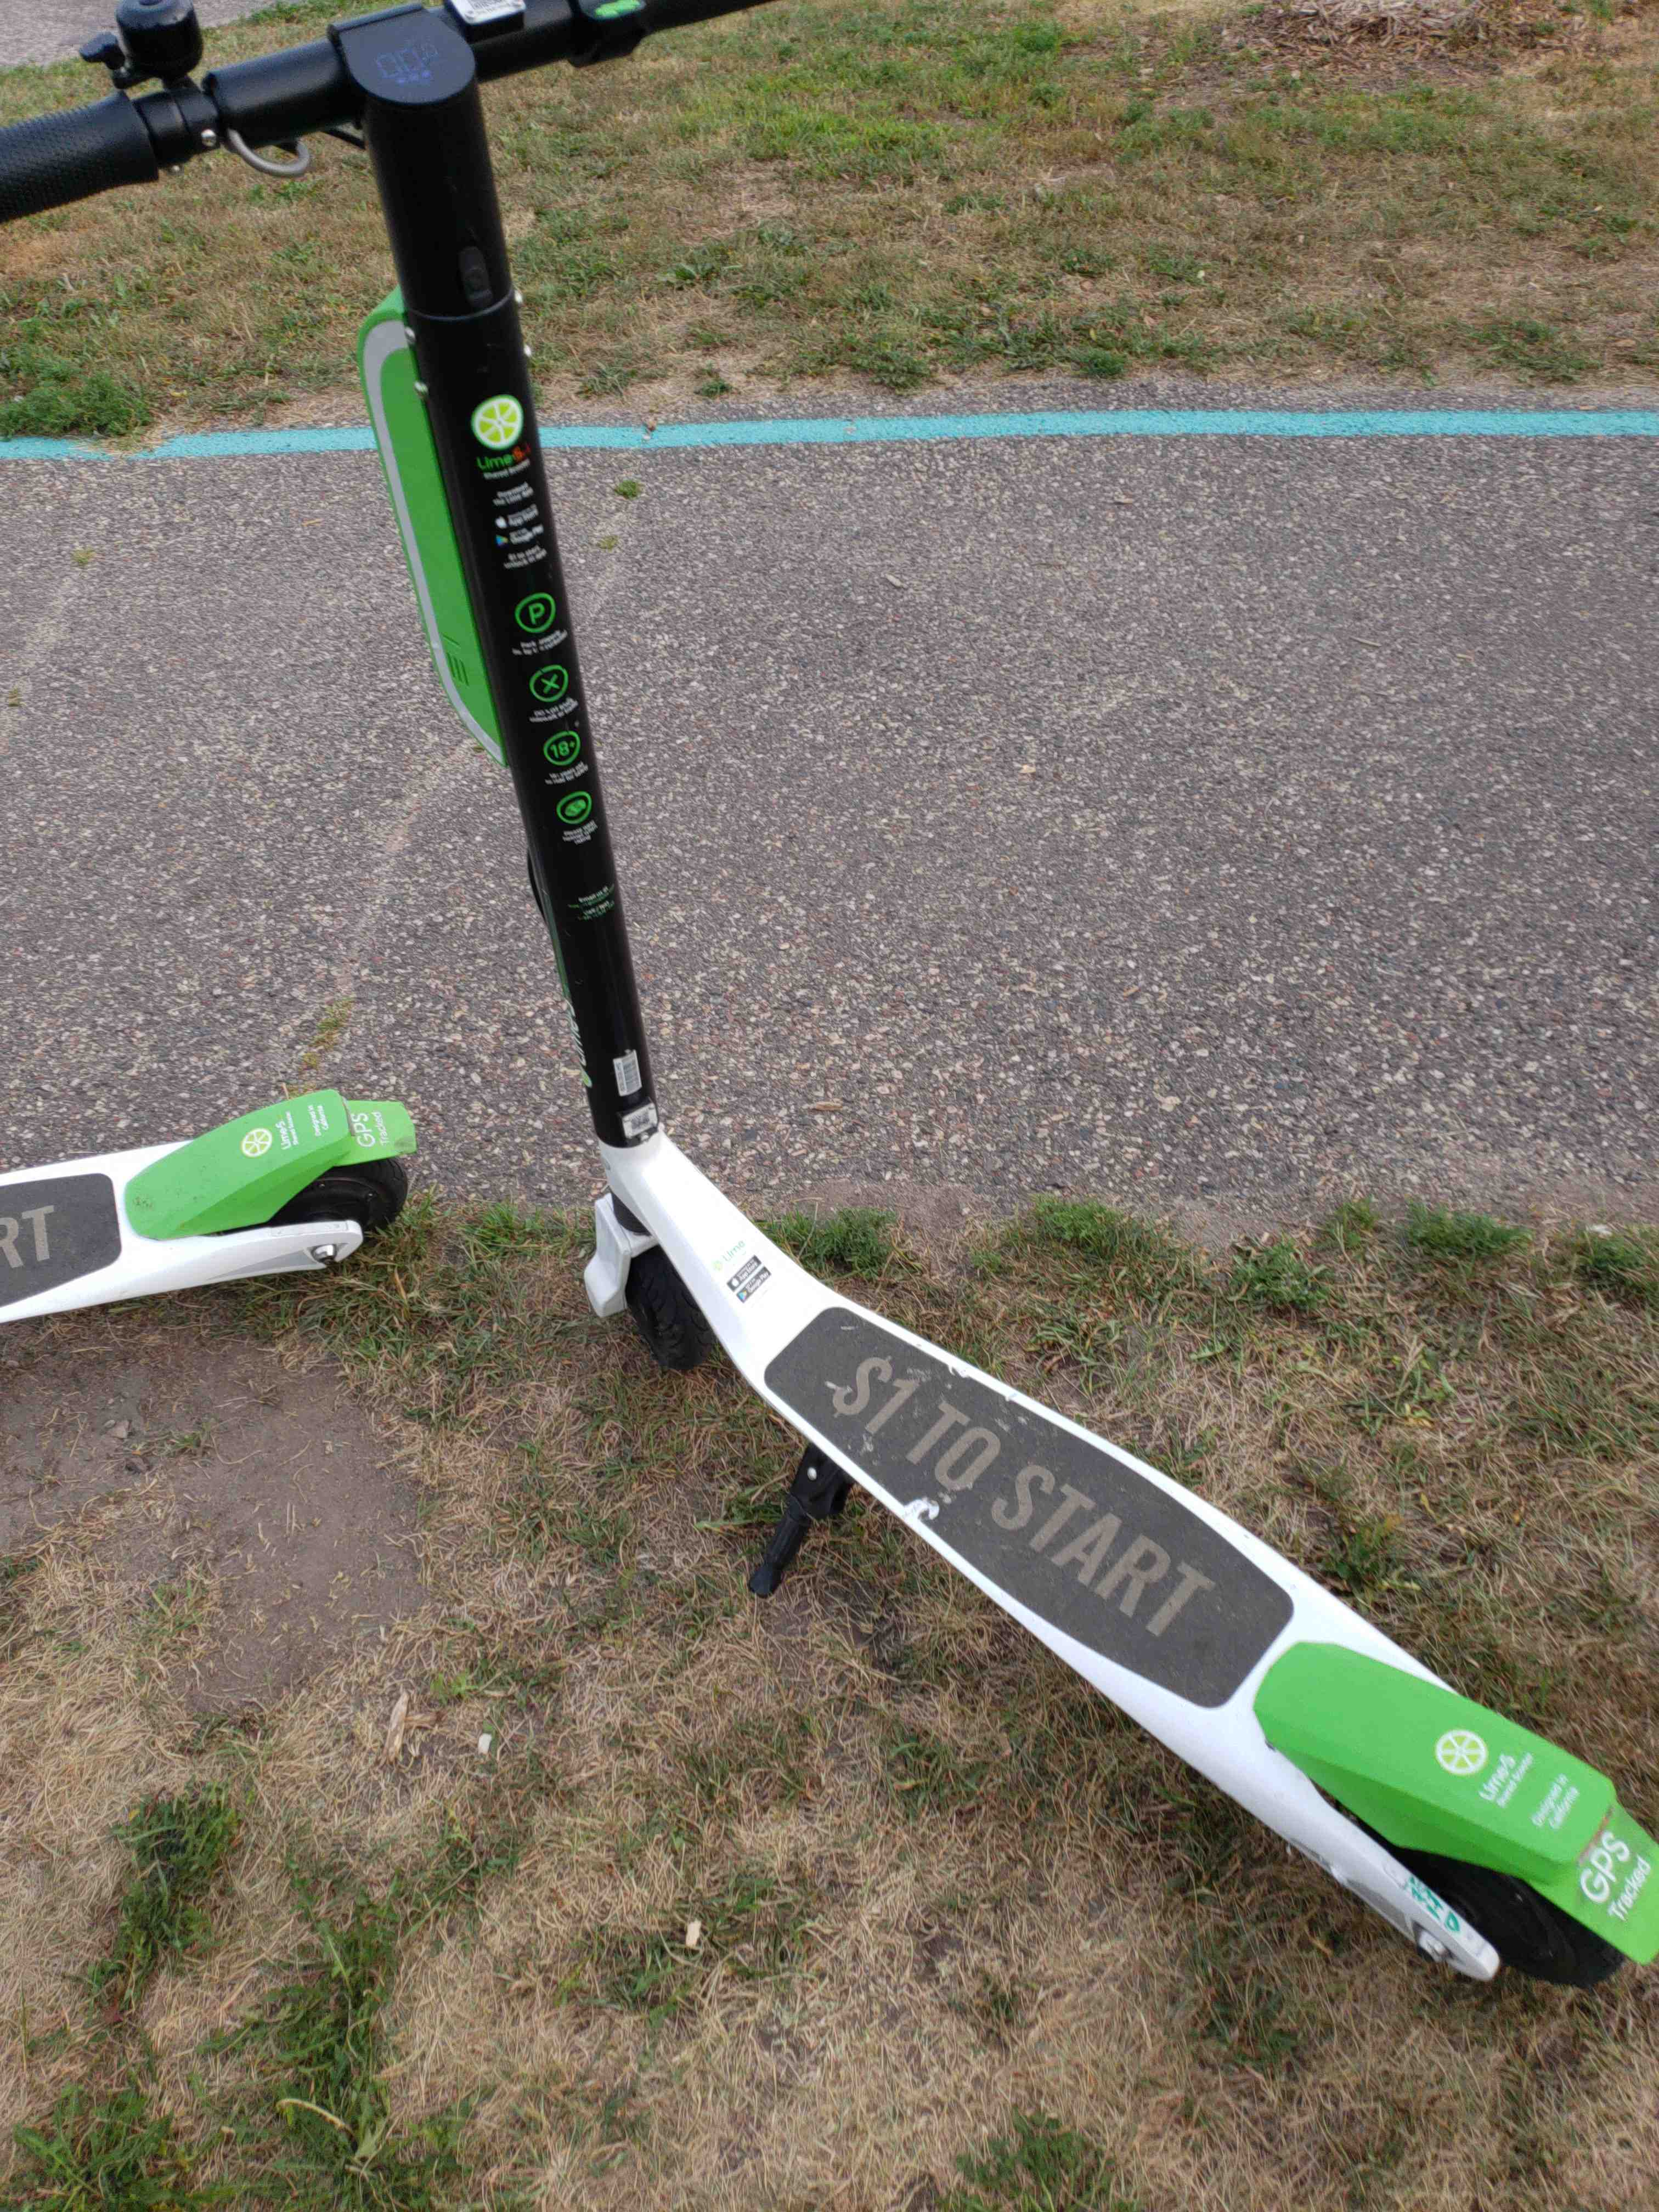scooter: (24, 57, 1621, 2142)
